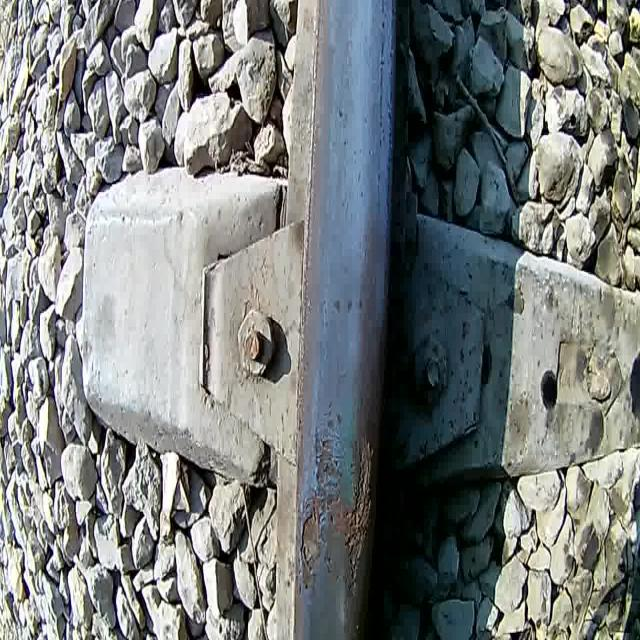Spallings: (299, 409, 378, 600)
